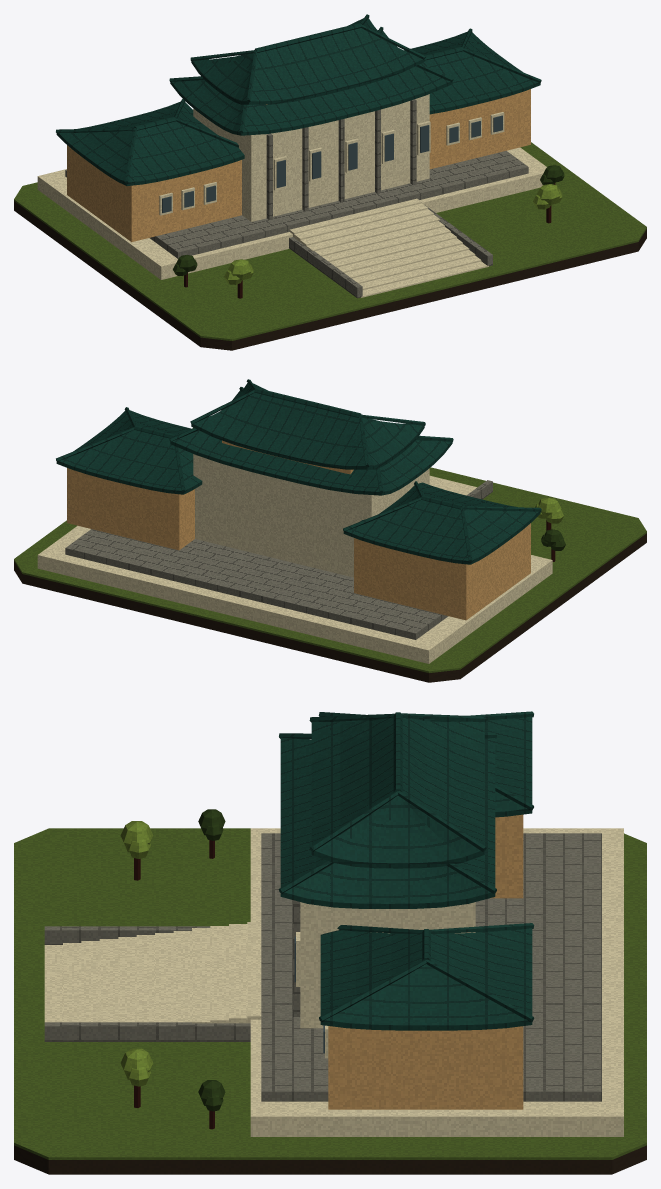
The model's file is taipei-palace.glb.
3 renders of one model, top to bottom at view 1: azimuth 30°, elevation 25°; view 2: azimuth 150°, elevation 25°; view 3: azimuth 270°, elevation 25°, orthographic. The views are drawn at different scales.
Visible parts, largest first — view 1: 台北故宫博物院; view 2: 台北故宫博物院; view 3: 台北故宫博物院.
Part boxes in pixels (<box>): 台北故宫博物院: <box>14,14,646,350</box>; 台北故宫博物院: <box>14,379,646,682</box>; 台北故宫博物院: <box>14,711,646,1174</box>.
Size of the model in its own units: 10.7 by 3.93 by 8.7.
10 materials, 9 textured.
